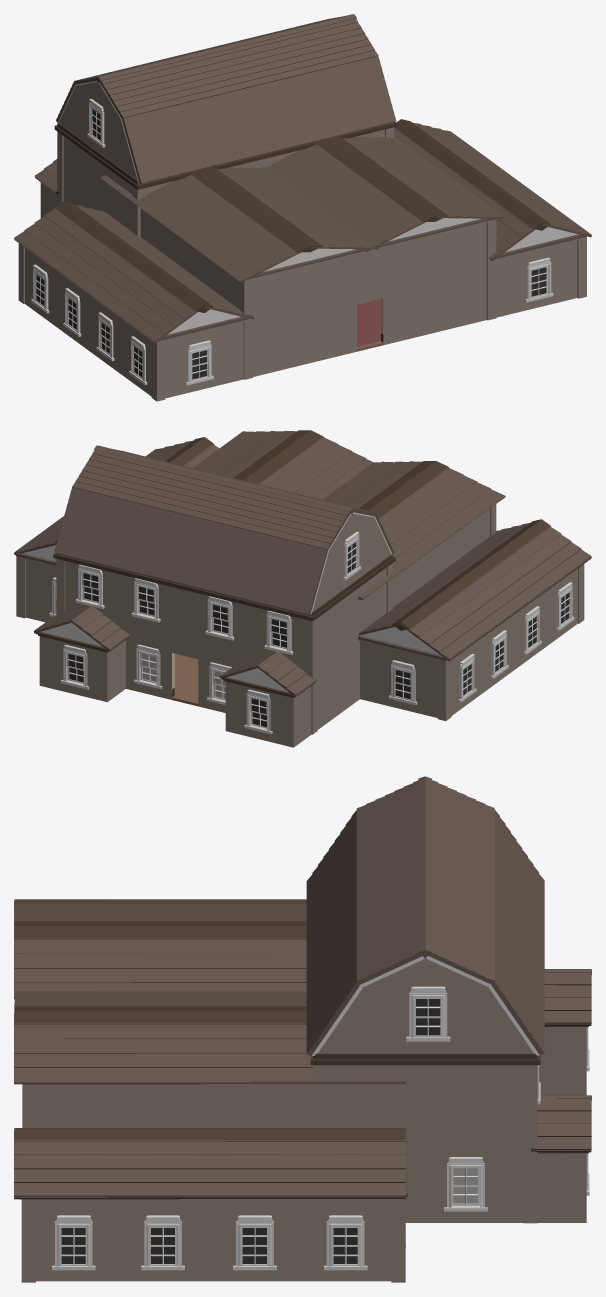
File: library.fbx
3 views of the same model, one above another, from view 1: azimuth 30°, elevation 25°; view 2: azimuth 150°, elevation 25°; view 3: azimuth 270°, elevation 25° (orthographic). The views are drawn at different scales.
Parts seen in each view (by area): view 1: pCube705 (×4), library_walls, pCube679, pCube706 (×4), main_ceiling, pCube680, pCube707 (×4), floor2_front4, library_floor1, pCube704 (×4), pCube681, windowframe_fancy (×2) (+5 smaller); view 2: pCube705 (×3), pCube672, library_walls, floor2_front4, pCube673, pCube706 (×4), pCube707 (×4), library_floor1, windowframe_fancy (×7), main_ceiling, pCube669 (×2), pCube704 (×2) (+11 smaller); view 3: pCube706 (×3), library_walls, floor2_front4, pCube707 (×4), main_ceiling, pCube673, pCube680, pCube705 (×2), pCube679, pCube672, library_floor1, windowframe_fancy (×6) (+7 smaller).
Part boxes in pixels (bbox=[...]): pCube705 (×4): bbox=[14, 127, 535, 343]; library_walls: bbox=[25, 182, 577, 387]; pCube679: bbox=[121, 56, 396, 183]; pCube706 (×4): bbox=[75, 123, 591, 319]; main_ceiling: bbox=[140, 208, 486, 317]; pCube680: bbox=[99, 18, 378, 119]; pCube707 (×4): bbox=[55, 119, 550, 312]; floor2_front4: bbox=[54, 82, 397, 231]; library_floor1: bbox=[25, 287, 577, 398]; pCube704 (×4): bbox=[157, 218, 586, 342]; pCube681: bbox=[96, 14, 356, 82]; windowframe_fancy (×2): bbox=[185, 257, 553, 385]; pCube705 (×3): bbox=[259, 437, 591, 661]; pCube672: bbox=[54, 487, 328, 614]; library_walls: bbox=[26, 560, 577, 736]; floor2_front4: bbox=[53, 513, 395, 670]; pCube673: bbox=[72, 450, 350, 551]; pCube706 (×4): bbox=[14, 431, 529, 635]; pCube707 (×4): bbox=[55, 430, 550, 630]; library_floor1: bbox=[26, 607, 577, 747]; windowframe_fancy (×7): bbox=[60, 564, 508, 734]; main_ceiling: bbox=[393, 509, 489, 606]; pCube669 (×2): bbox=[71, 606, 316, 696]; pCube704 (×2): bbox=[15, 545, 447, 660]; pCube706 (×3): bbox=[14, 928, 405, 1199]; library_walls: bbox=[36, 1027, 586, 1266]; floor2_front4: bbox=[310, 958, 540, 1140]; pCube707 (×4): bbox=[14, 899, 405, 1140]; main_ceiling: bbox=[36, 1084, 313, 1127]; pCube673: bbox=[426, 780, 494, 986]; pCube680: bbox=[356, 780, 424, 986]; pCube705 (×2): bbox=[14, 903, 306, 1006]; pCube679: bbox=[306, 810, 362, 1056]; pCube672: bbox=[488, 810, 544, 1055]; library_floor1: bbox=[36, 1082, 586, 1281]; windowframe_fancy (×6): bbox=[52, 986, 487, 1270].
Bounding box in the file's own units: 33.64 × 14.49 × 27.71.
